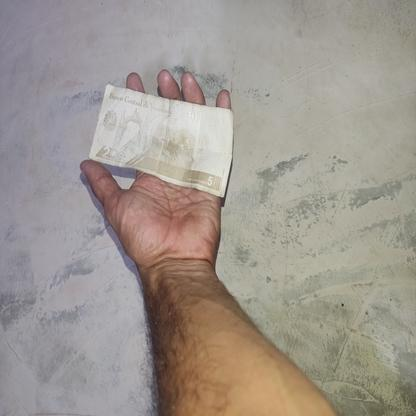five-back-vef: (89, 84, 235, 198)
